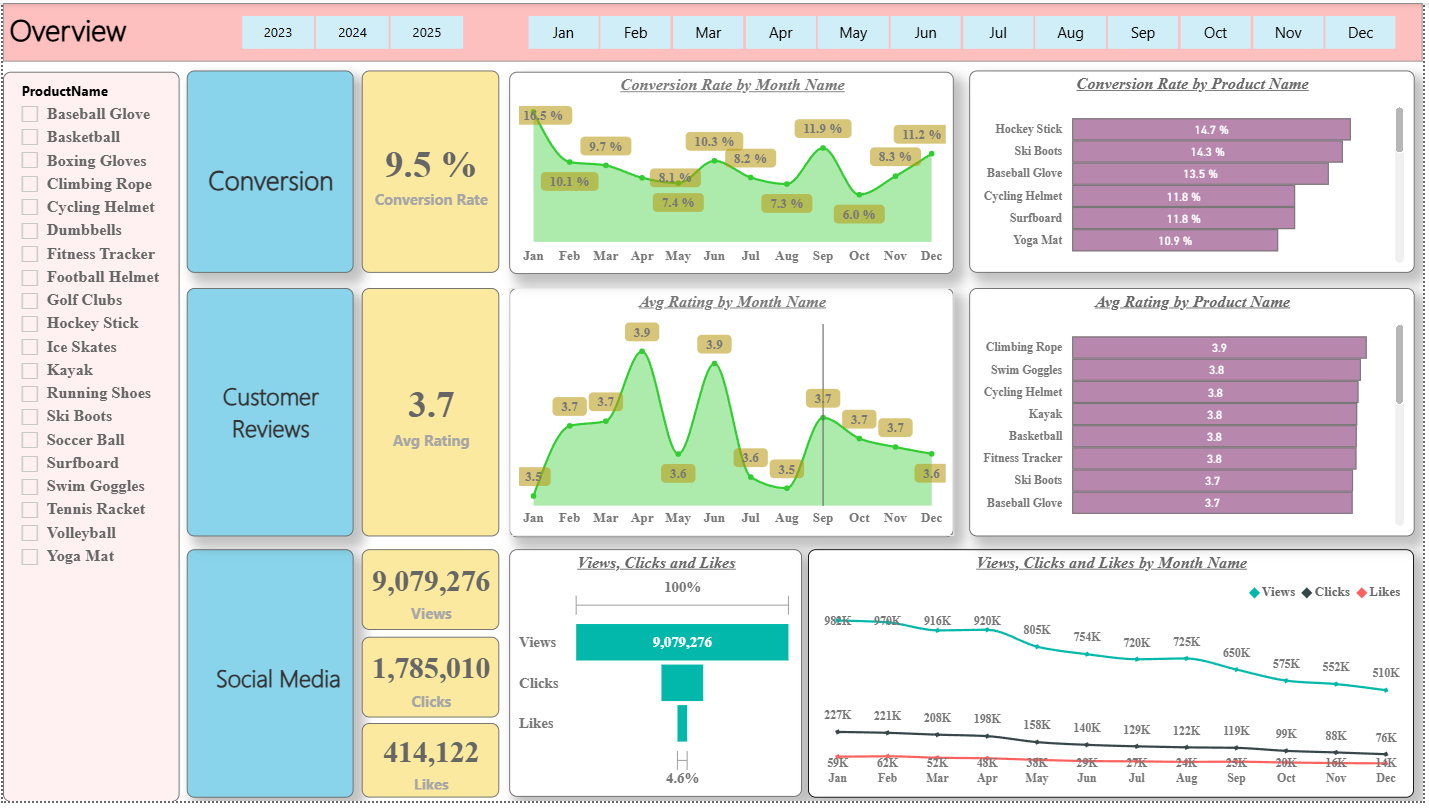

What the dashboard file says about the page in this screenshot:
{"tool":"powerbi","page":{"name":"OverView","canvas":[1280,720],"ordinal":0},"visuals":[{"type":"textbox","box":[0,0,1280,52.6],"z":0},{"type":"slicer","fields":{"Values":["dim_products.ProductName"]},"box":[0,61.5,159.5,658.5],"z":1000},{"type":"slicer","fields":{"Values":["Calendar.Year"]},"box":[189.4,4.6,249.5,43.7],"z":2000},{"type":"slicer","fields":{"Values":["Calendar.MonthNameShort"]},"box":[447.7,4.6,832.3,43.7],"z":3000},{"type":"lineChart","title":"Conversion Rate by Month Name","fields":{"Y":["_Calculations.Conversion Rate"],"Category":["Calendar.MonthNameShort"]},"box":[457,61.6,401.2,182.6],"z":4000},{"type":"lineChart","title":"Avg Rating by Month Name","fields":{"Category":["Calendar.MonthNameShort"],"Y":["_Calculations.Rating (Average)"]},"box":[457,257,401.2,224.4],"z":5000},{"type":"clusteredBarChart","title":"Conversion Rate by Product Name","fields":{"Category":["dim_products.ProductName"],"Y":["_Calculations.Conversion Rate"]},"box":[871.2,61.2,401.2,182.5],"z":6000},{"type":"funnel","fields":{"Y":["_Calculations.Views","_Calculations.Clicks","_Calculations.Likes"]},"box":[457,493,264,223.3],"z":7000},{"type":"lineChart","title":"Views, Clicks and Likes by Month Name","fields":{"Y":["_Calculations.Views","_Calculations.Clicks","_Calculations.Likes"],"Category":["Calendar.MonthNameShort"]},"box":[726.2,492.5,546.2,223.8],"z":8000},{"type":"clusteredBarChart","title":"Avg Rating by Product Name","fields":{"Category":["dim_products.ProductName"],"Y":["_Calculations.Rating (Average)"]},"box":[871.2,257.5,401.2,223.8],"z":9000},{"type":"textbox","box":[166.2,61.2,150,182.5],"z":10000},{"type":"textbox","box":[166.2,492.5,150,223.8],"z":11000},{"type":"textbox","box":[166.2,257.5,150,223.8],"z":12000},{"type":"card","fields":{"Values":["_Calculations.Conversion Rate"]},"box":[323.8,61.2,123.8,182.5],"z":13000},{"type":"card","fields":{"Values":["_Calculations.Rating (Average)"]},"box":[323.8,257.5,123.8,223.8],"z":14000},{"type":"card","fields":{"Values":["_Calculations.Views"]},"box":[323.8,492.5,123.8,72.5],"z":15000},{"type":"card","fields":{"Values":["_Calculations.Clicks"]},"box":[323.8,571.2,123.8,72.5],"z":16000},{"type":"card","fields":{"Values":["_Calculations.Likes"]},"box":[323.8,648.8,123.8,67.5],"z":17000}]}

Visuals, with their boxes in screenshot pixels (x1, y1, x2, y2), scaled from the page's 1280x720 canvas onto the 1429x811 screenshot:
textbox: 0, 0, 1428, 59
slicer - dim_products.ProductName: 0, 69, 178, 810
slicer - Calendar.Year: 211, 5, 490, 54
slicer - Calendar.MonthNameShort: 500, 5, 1428, 54
"Conversion Rate by Month Name" lineChart: 510, 69, 958, 275
"Avg Rating by Month Name" lineChart: 510, 289, 958, 542
"Conversion Rate by Product Name" clusteredBarChart: 973, 69, 1421, 275
funnel - _Calculations.Views x _Calculations.Clicks: 510, 555, 805, 807
"Views, Clicks and Likes by Month Name" lineChart: 811, 555, 1421, 807
"Avg Rating by Product Name" clusteredBarChart: 973, 290, 1421, 542
textbox: 186, 69, 353, 275
textbox: 186, 555, 353, 807
textbox: 186, 290, 353, 542
card - _Calculations.Conversion Rate: 361, 69, 500, 275
card - _Calculations.Rating (Average): 361, 290, 500, 542
card - _Calculations.Views: 361, 555, 500, 636
card - _Calculations.Clicks: 361, 643, 500, 725
card - _Calculations.Likes: 361, 731, 500, 807
